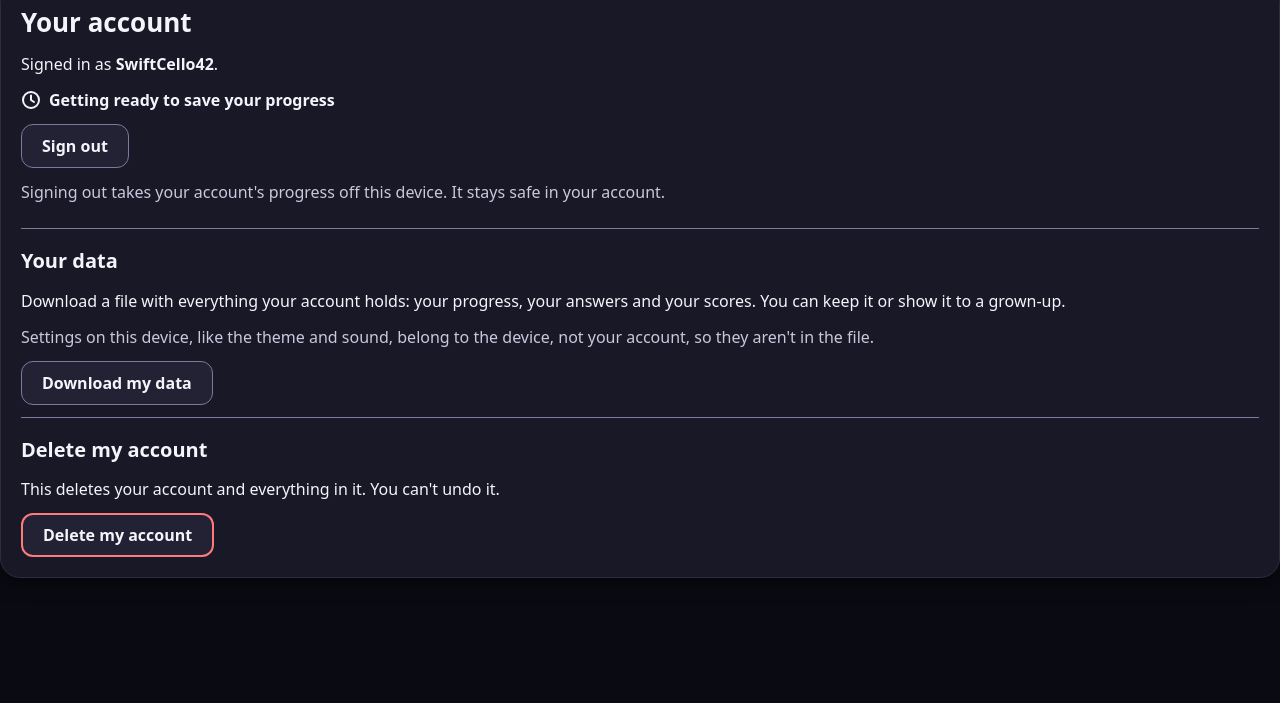
Test: Delete my account: two steps › "No, keep my account" closes it and puts focus back on the button that opened it
Expected: the text "SwiftCello42" is shown, top-left (116, 53), bottom-right (214, 75)
Click the button "Delete my account". click: click(118, 535)
box: top-left (21, 513), bottom-right (214, 557)
(page scrolled)
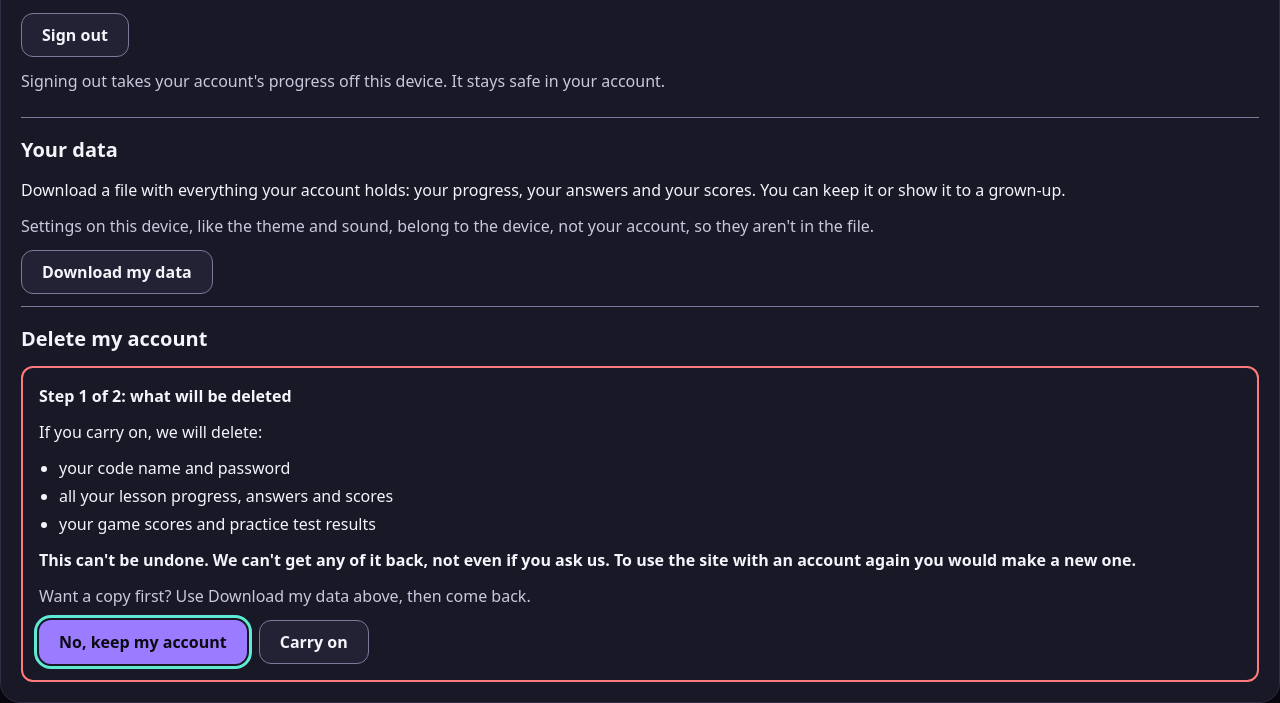
Click the button "No, keep my account". click: click(143, 642)
box: top-left (39, 620), bottom-right (247, 664)
(page scrolled)
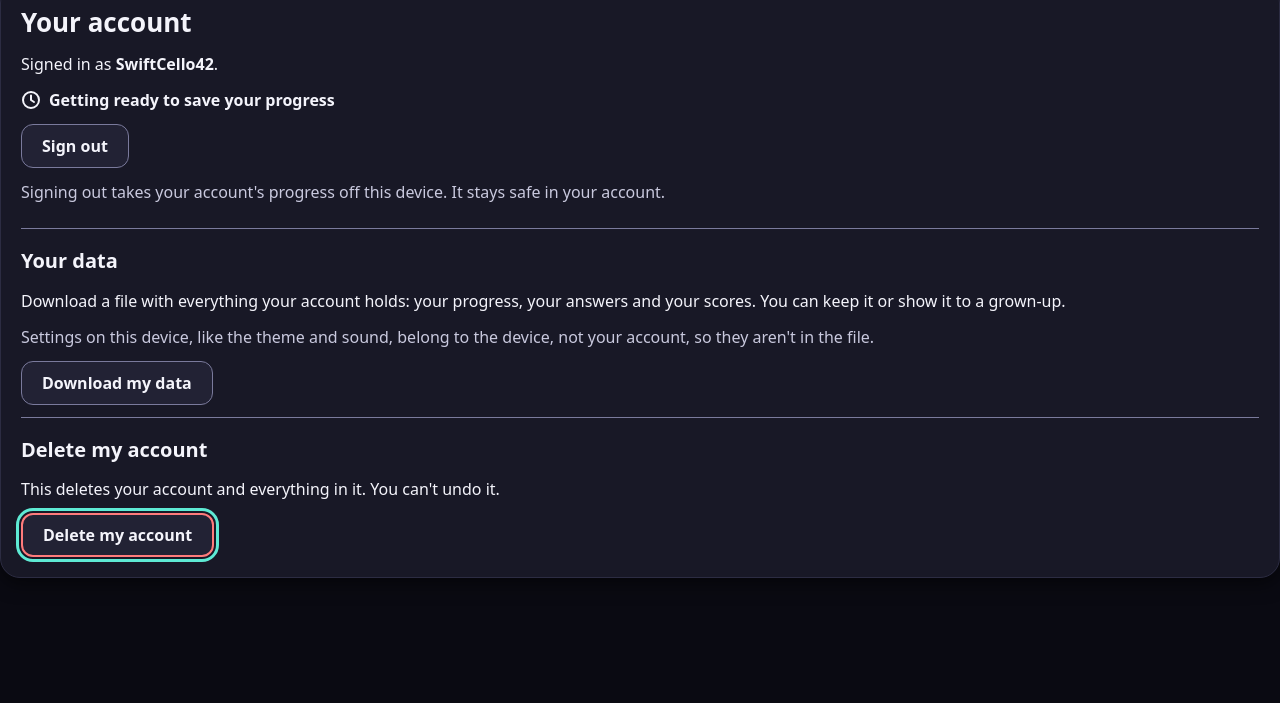
Now the text "Step 1 of 2" is gone
